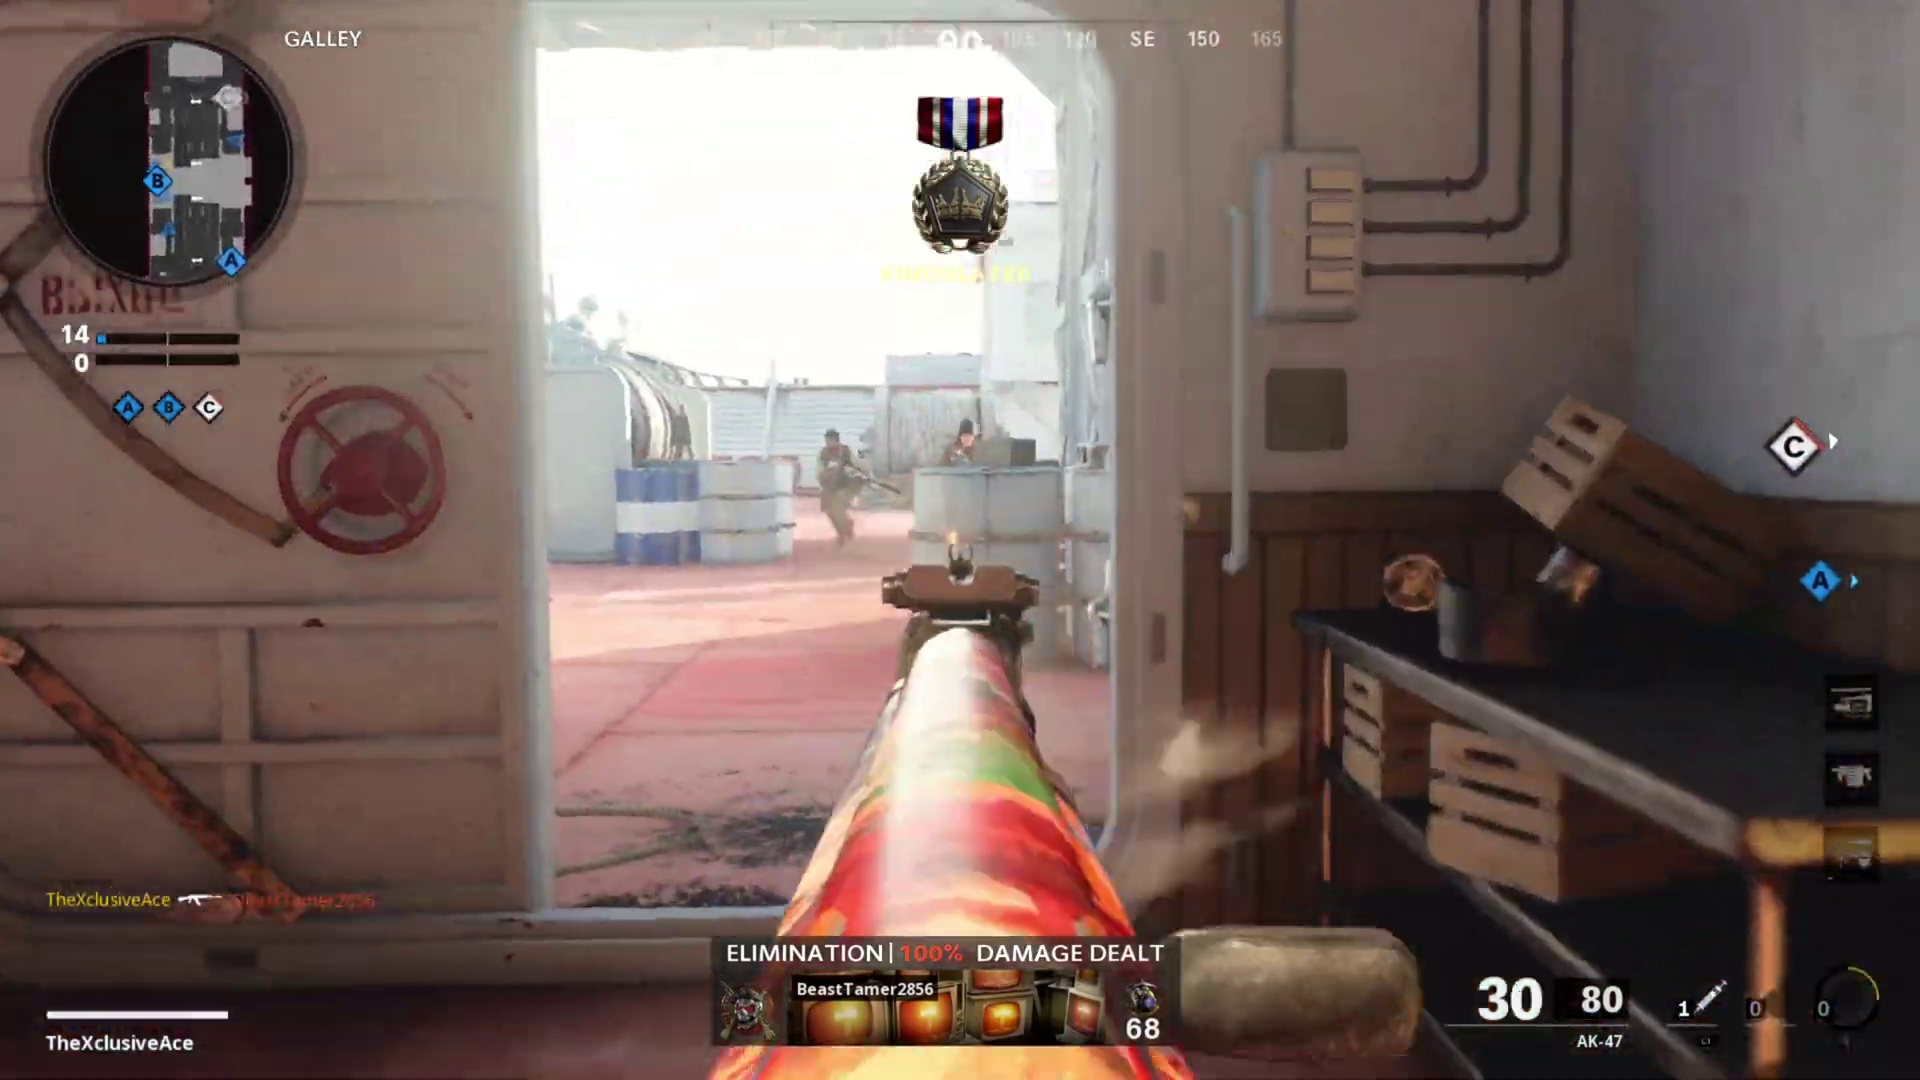head: (953, 415, 976, 452), (820, 425, 844, 456)
person: (811, 428, 864, 547), (944, 417, 978, 463)
